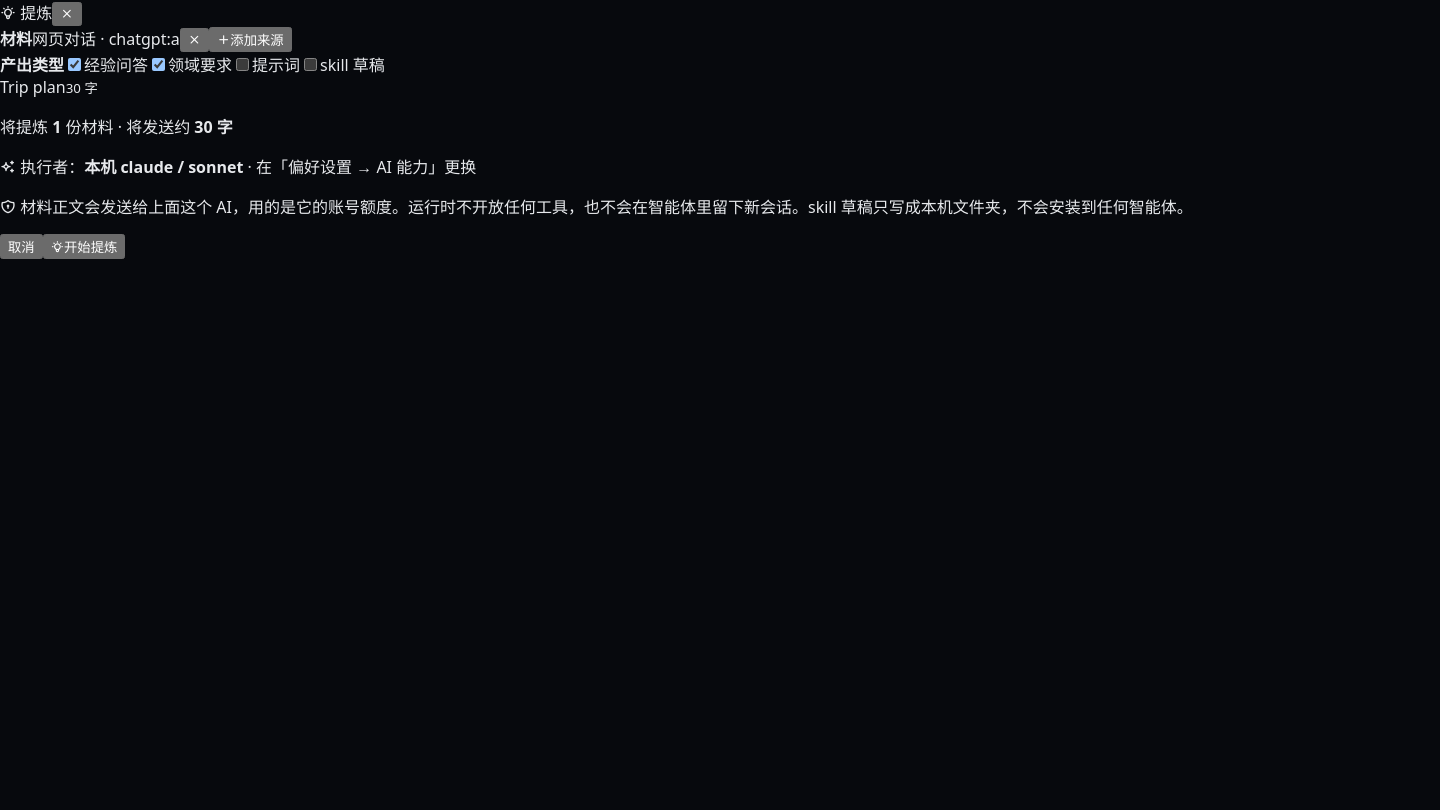
Scenario: distill dialog › clears a stale preview on a failed refresh so the confirm dialog cannot quote old numbers
Click the button "添加来源".
click(250, 40)  # box x1=209 y1=27 x2=292 y2=52
Wait 350 ms
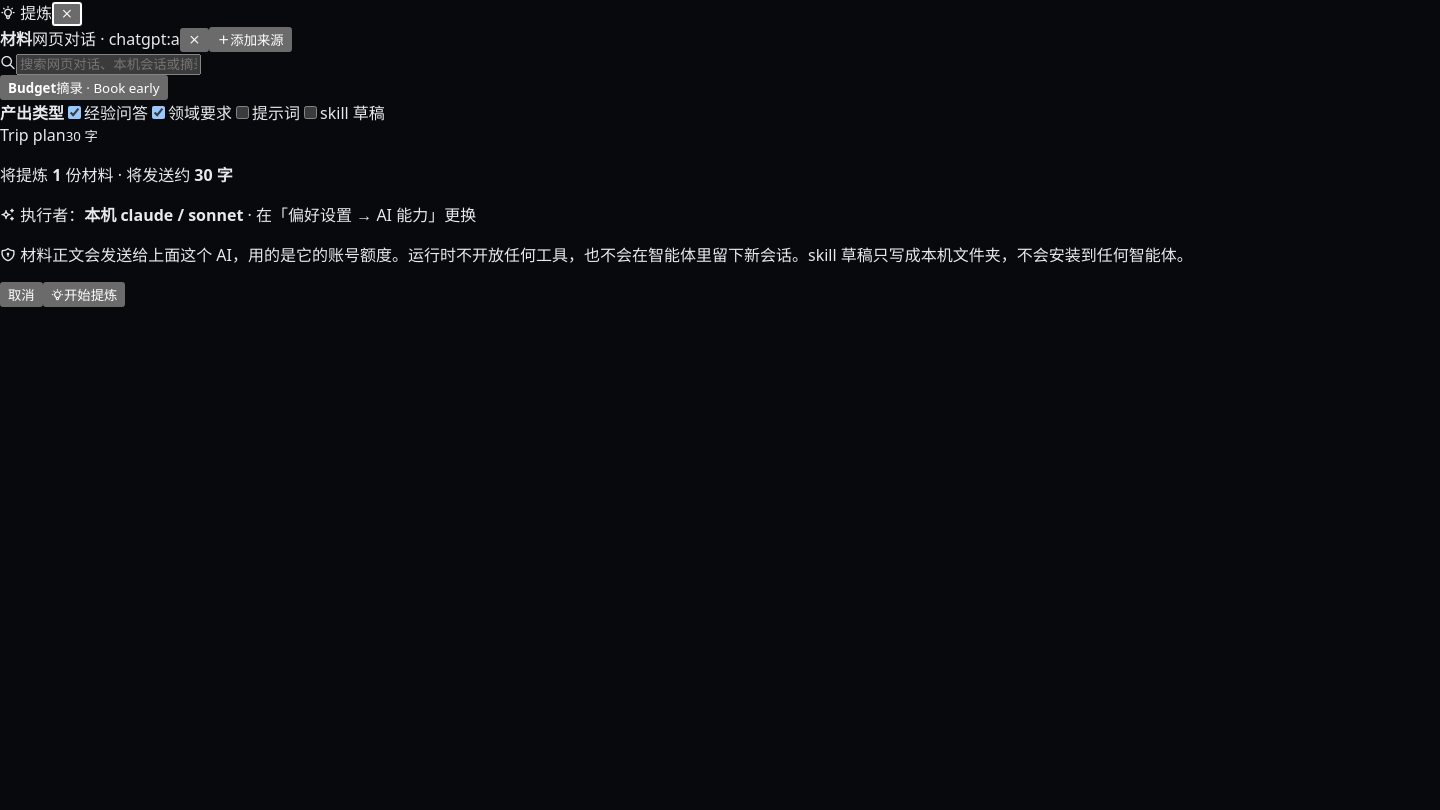
Expected: the button with class "distill-candidate" is shown
Click the button with class "distill-candidate".
click(84, 88)  # box x1=0 y1=75 x2=168 y2=100
Wait 10 ms
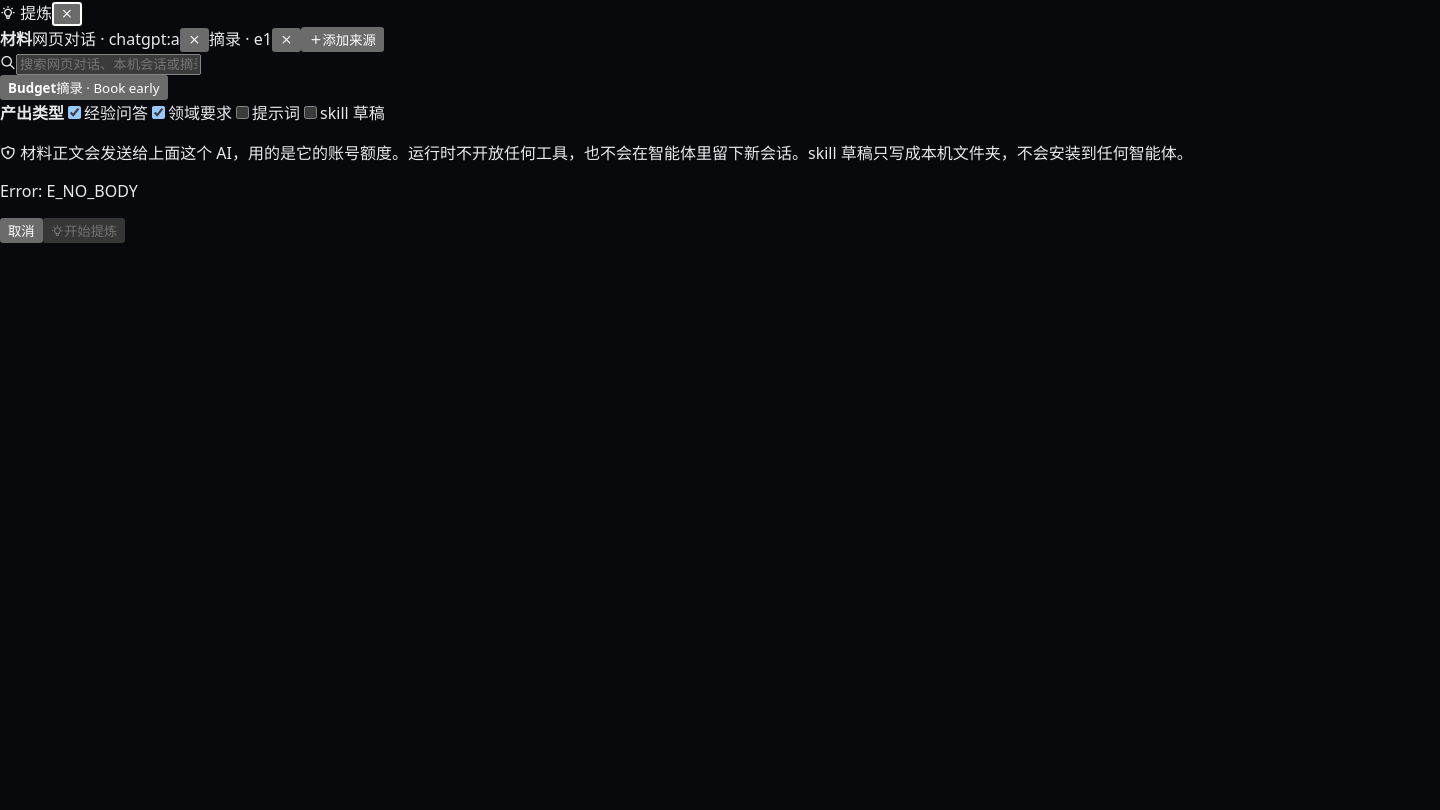
Expected: the text "Trip plan" is gone
Expected: the button "开始提炼" is disabled, x1=43 y1=218 x2=125 y2=243
